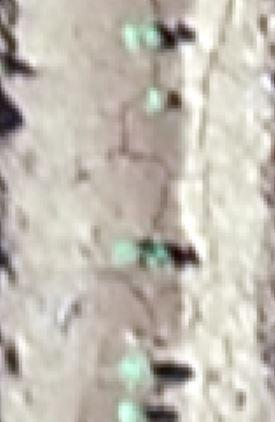cotton: (118, 240, 167, 266), (121, 353, 152, 383), (125, 21, 159, 48), (120, 401, 144, 422), (147, 87, 166, 112)
